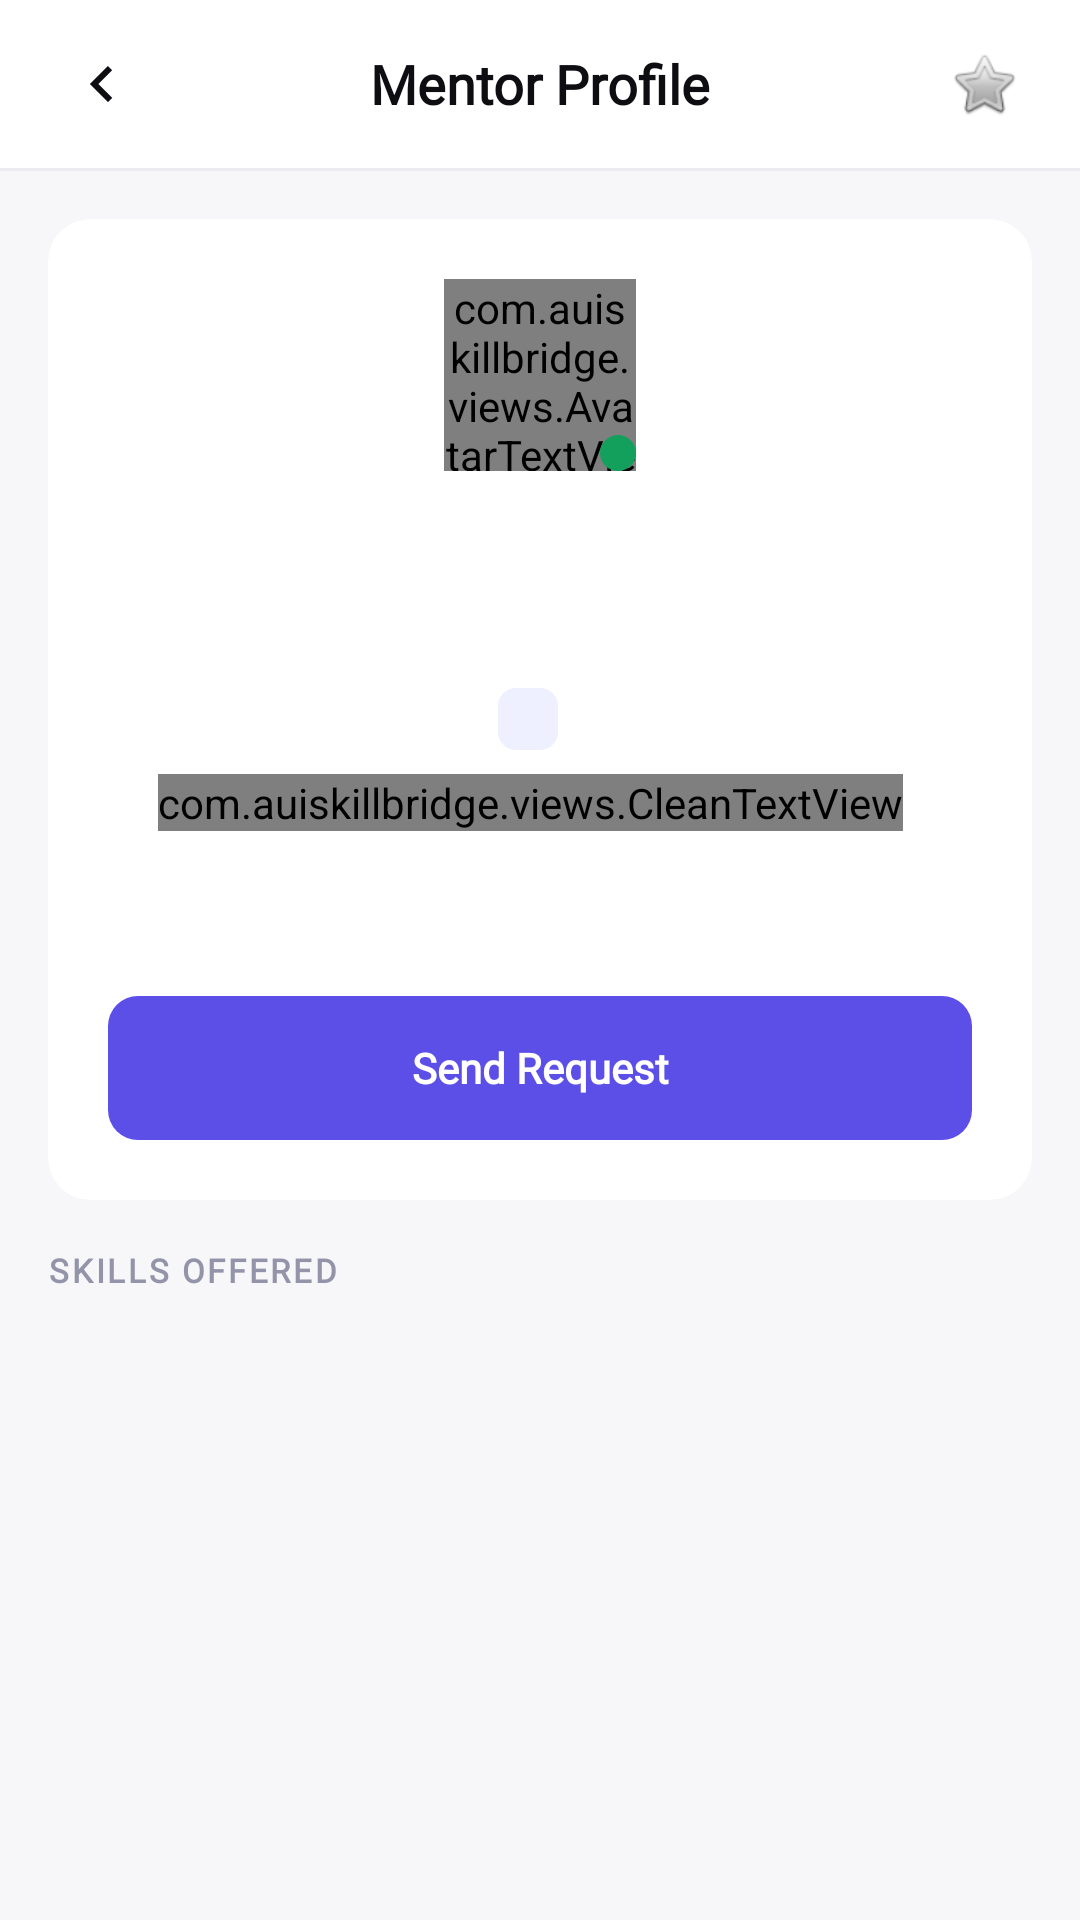

Point at icon controls on the screen. Image size 1080 × 1920, points as point (x, y).
Favorite: point (985, 84)
